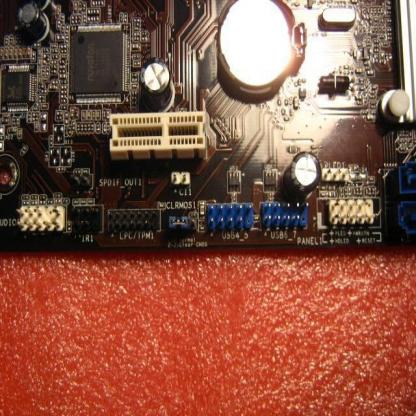other: (220, 4, 302, 92), (303, 278, 351, 346)
